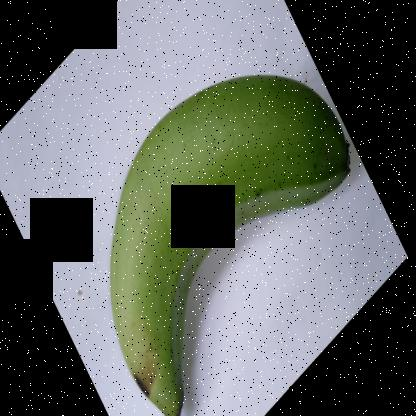freshunripe: (85, 59, 366, 415)
